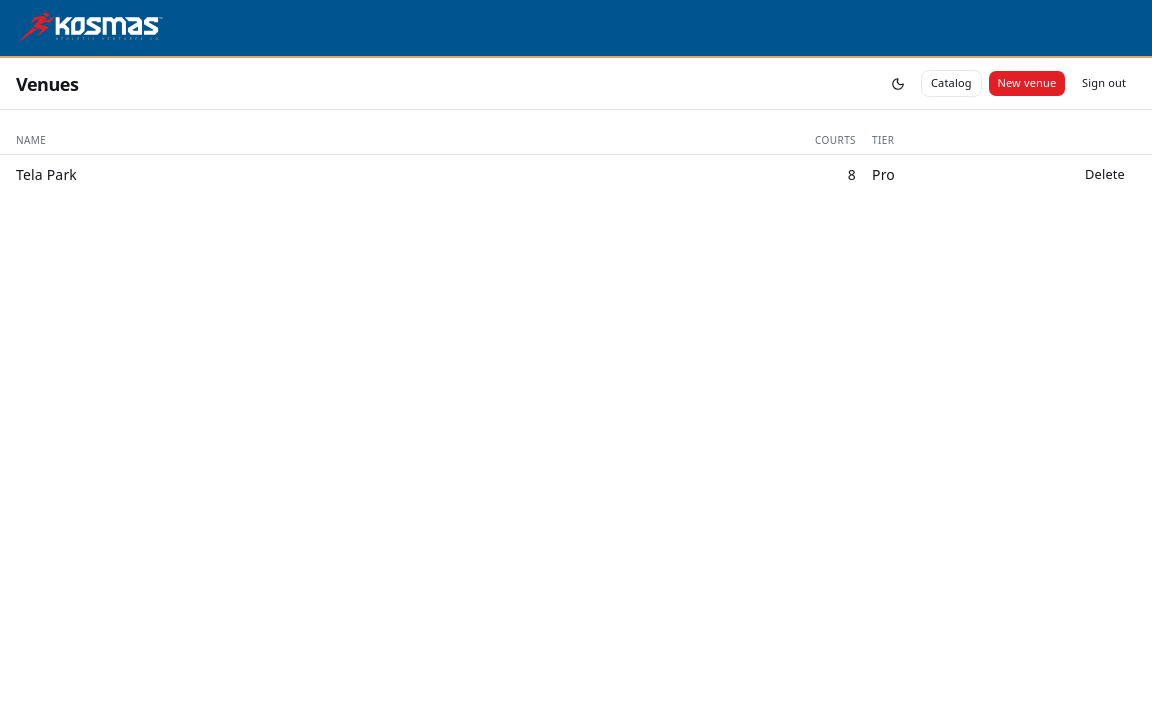
Scenario: Venues delete › drops the row once the delete succeeds, so the list matches the database
This screenshot has width=1152, height=720.
expect the text "Tela Park" is shown: met, box [0,154,752,194]
Click the button with aria-label "Delete Tela Park".
click(1105, 174)  # box [1074,160,1136,188]
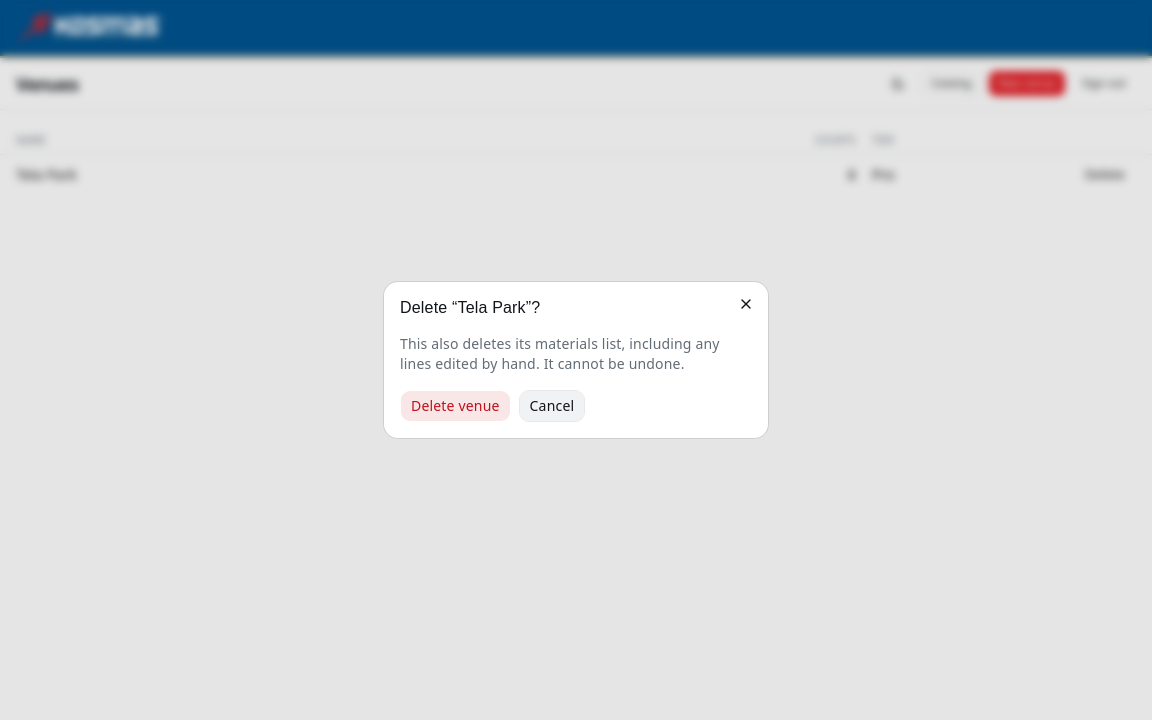
Click the button "Delete venue".
click(455, 406)  # box [400,390,511,422]
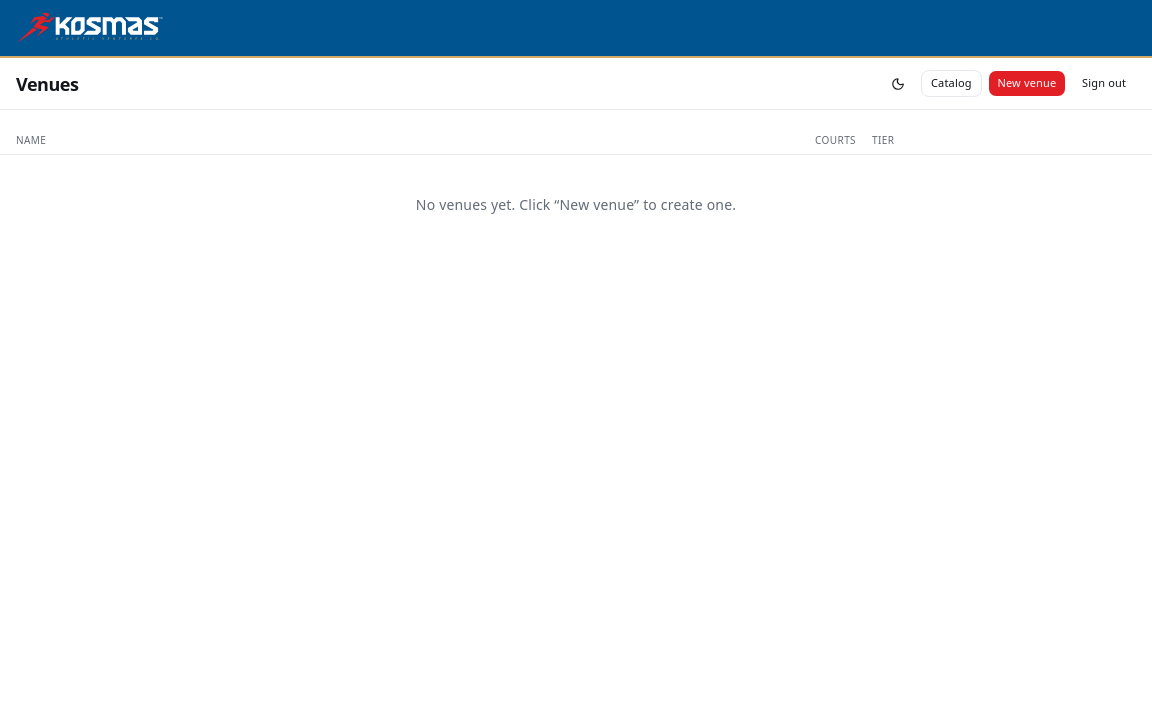
expect the text "Tela Park" is gone: met
